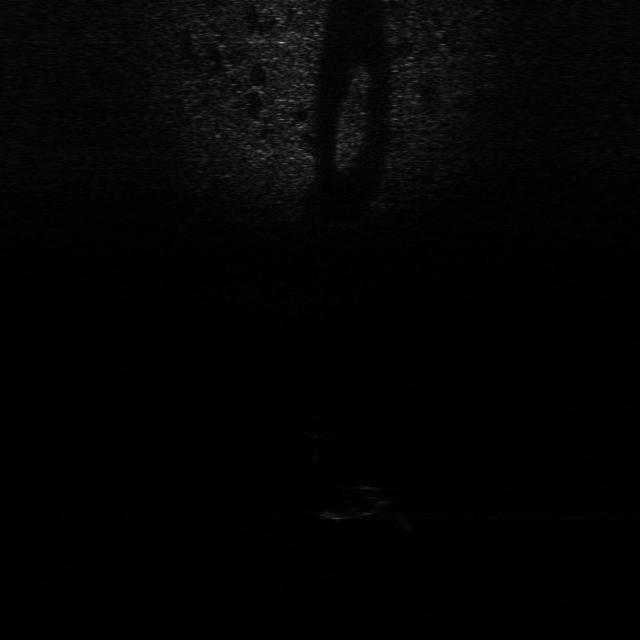ball: (302, 412, 332, 442)
tyre: (308, 480, 394, 524)
